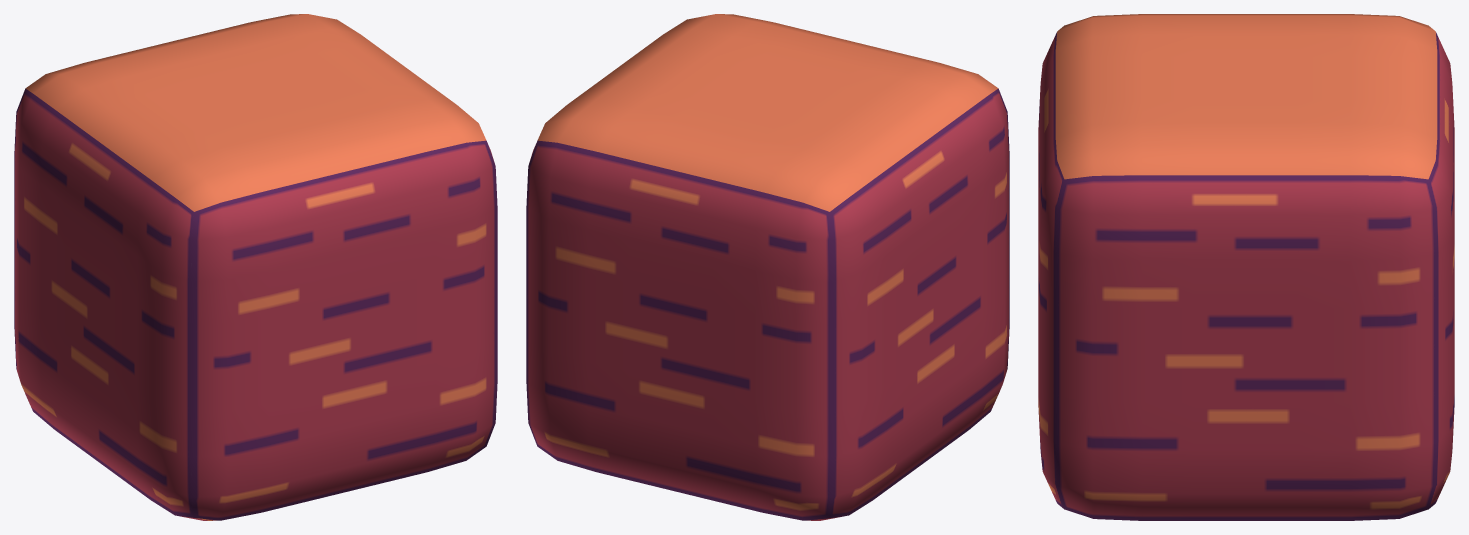
The model's file is block_1.obj.
The picture shows the model from 3 angles, left to right: view 1: azimuth 30°, elevation 25°; view 2: azimuth 150°, elevation 25°; view 3: azimuth 270°, elevation 25°; orthographic projection. The views are drawn at different scales.
Visible parts, largest first — view 1: Cube_Cube.001; view 2: Cube_Cube.001; view 3: Cube_Cube.001.
Boxes of the visible parts, x1,y1,x2,y2 form: Cube_Cube.001: (14,14,497,520); Cube_Cube.001: (526,14,1009,520); Cube_Cube.001: (1038,14,1454,520).
Bounding box in the file's own units: 2 × 2 × 2.
